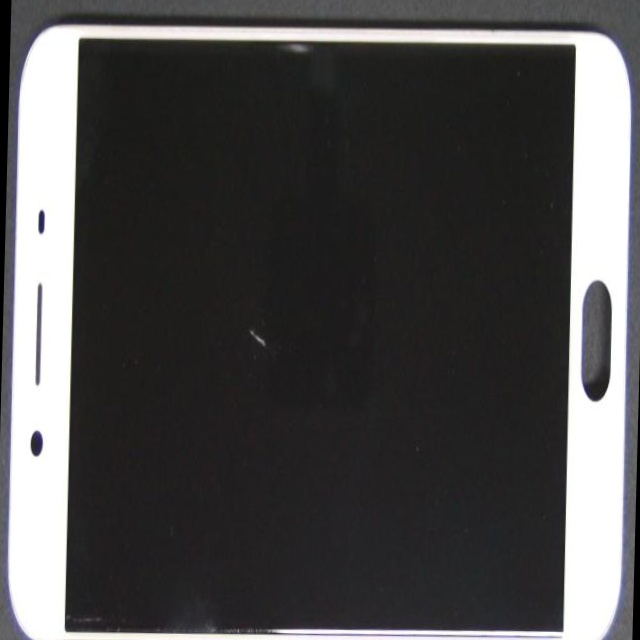scratch: (142, 125, 395, 511)
